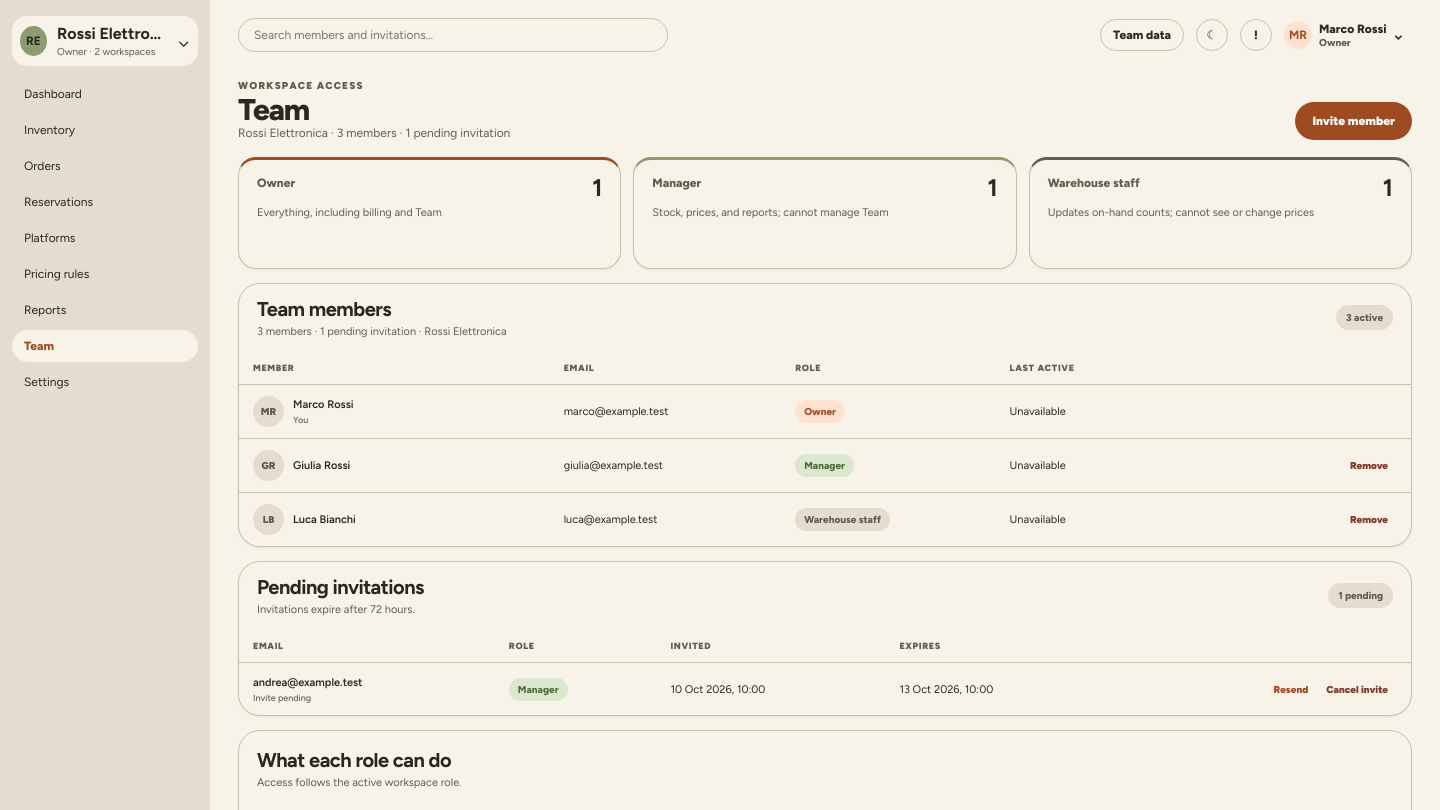
Test: Milestone 9 Team route › hides management actions for read-only roles and reloads only the selected workspace
The image size is (1440, 810).
Click the button "RE Rossi Elettronica Owner · 2 workspaces ⌄" at (105, 41), box [12, 16, 198, 66]
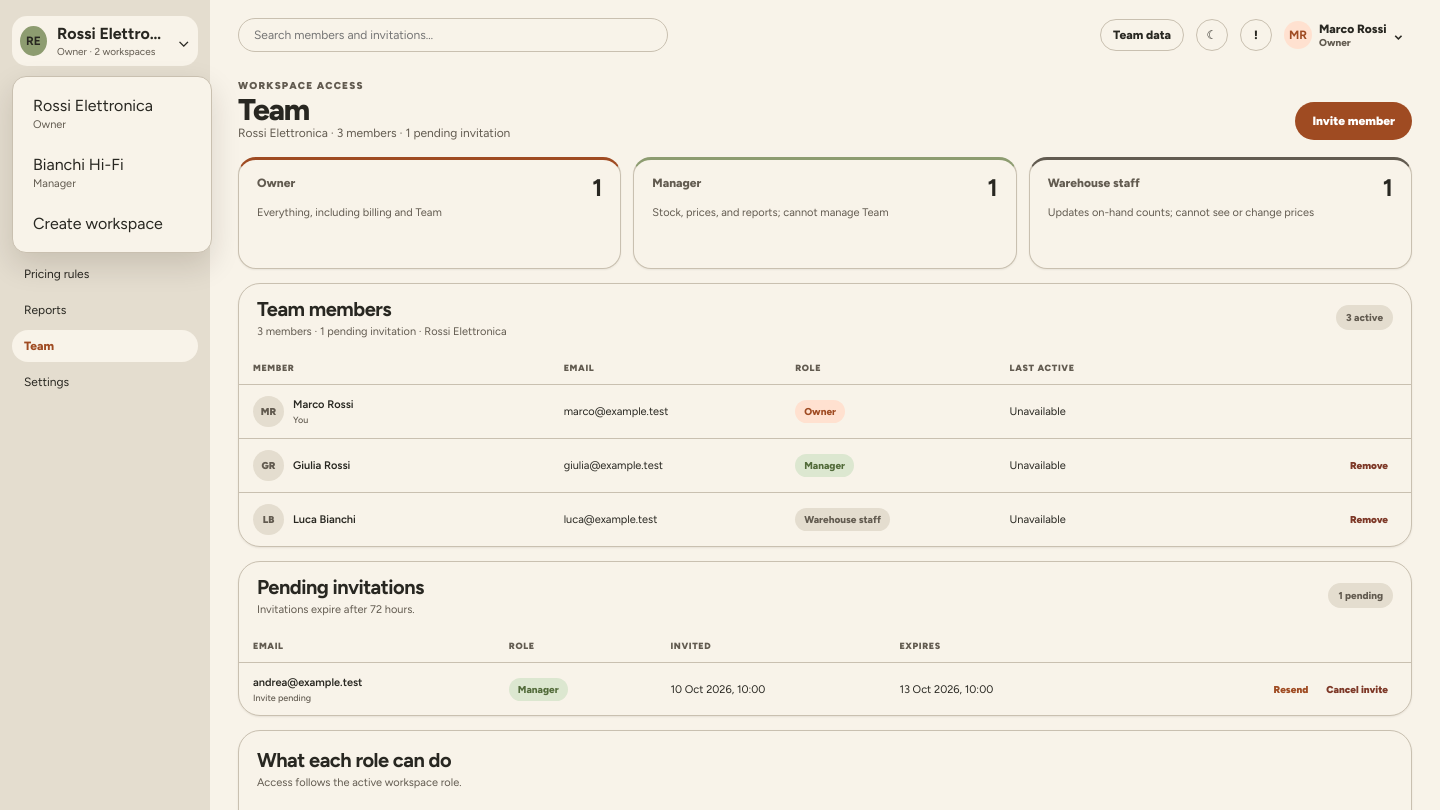
Click the button "Bianchi Hi-Fi Manager" at (112, 172), box [23, 146, 201, 199]
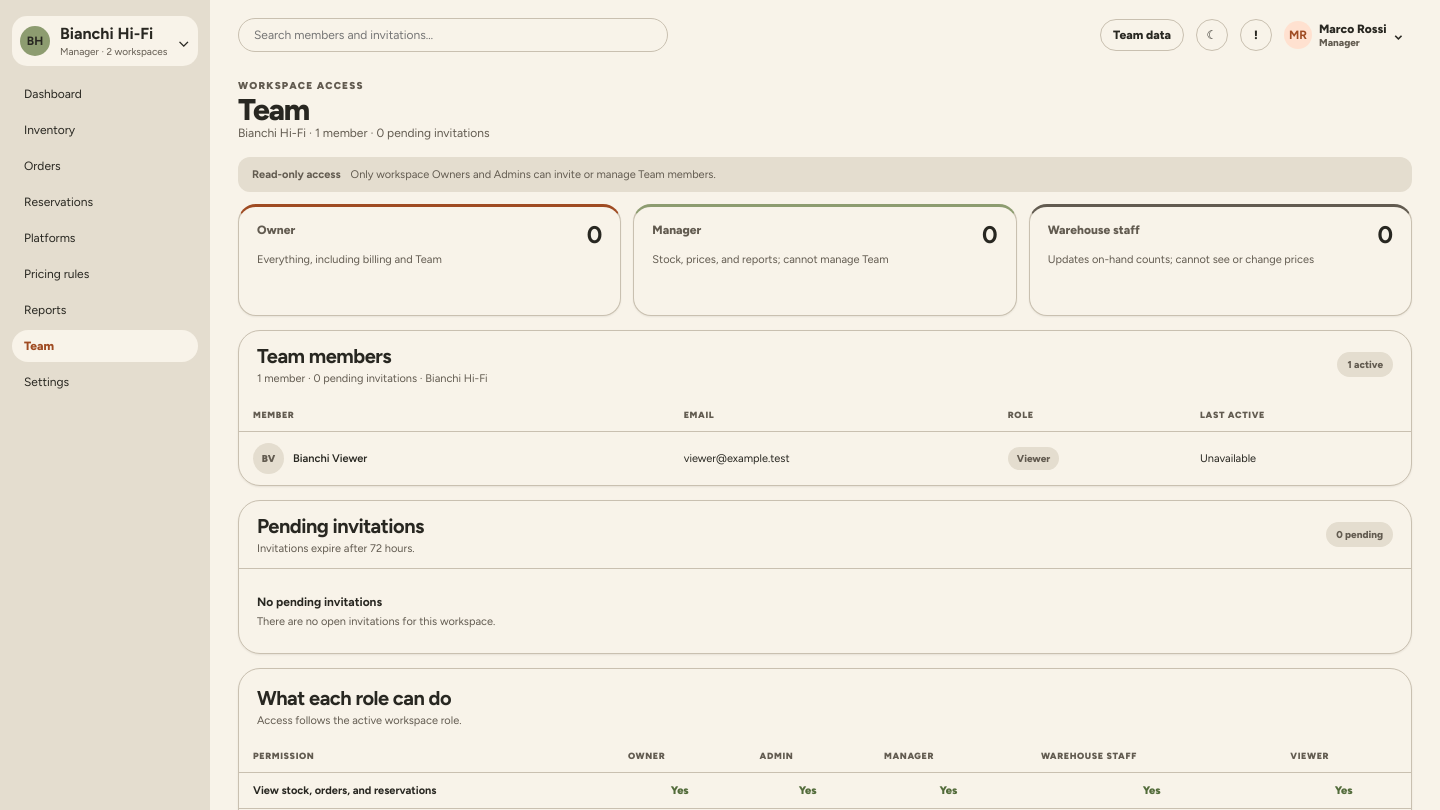
Check: the text "Bianchi Viewer" is shown, box [293, 452, 367, 465]
Check: the text "Giulia Rossi" is gone
Check: the text "Read-only access" is shown, box [252, 168, 341, 181]
